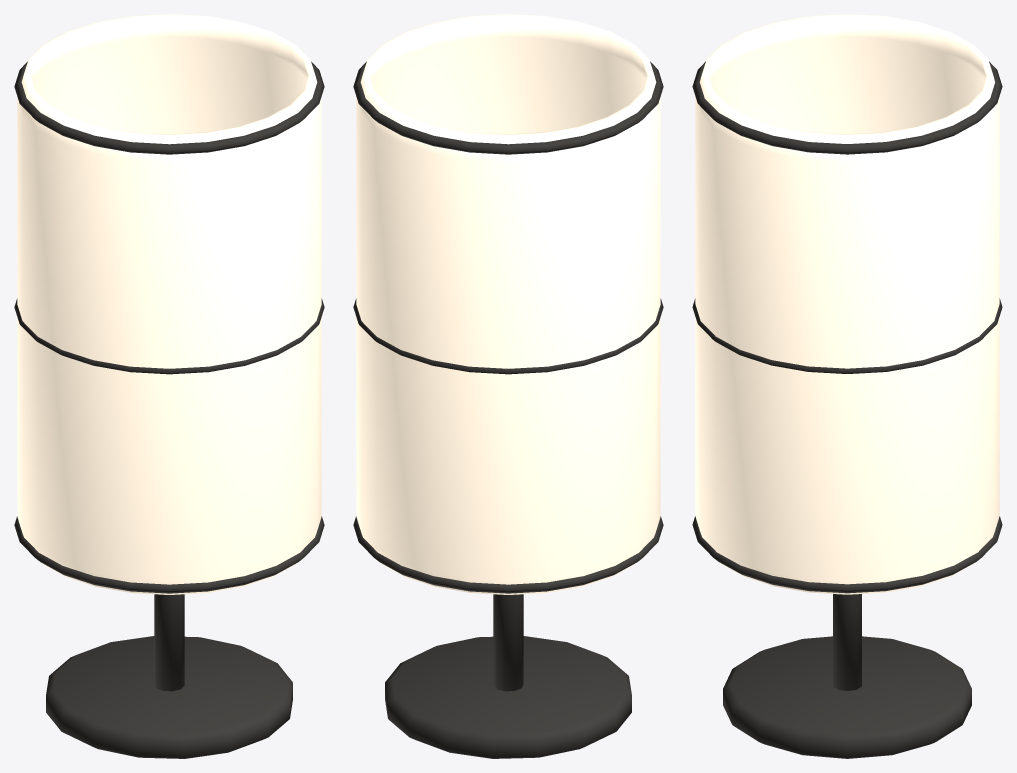
Rendered from paperLamp.glb.
3 views of the same model, side by side, from view 1: azimuth 30°, elevation 25°; view 2: azimuth 150°, elevation 25°; view 3: azimuth 270°, elevation 25° (orthographic).
Parts seen in each view (by area): view 1: paperLamp_paper_shade, paperLamp_base, paperLamp_hoop_2, paperLamp_hoop_0, paperLamp_rod, paperLamp_hoop_1; view 2: paperLamp_paper_shade, paperLamp_base, paperLamp_hoop_2, paperLamp_hoop_0, paperLamp_rod, paperLamp_hoop_1; view 3: paperLamp_paper_shade, paperLamp_base, paperLamp_hoop_2, paperLamp_hoop_0, paperLamp_rod, paperLamp_hoop_1.
Part boxes in pixels (left/top/right/bottom): paperLamp_paper_shade: left=17, top=14, right=321, bottom=594; paperLamp_base: left=46, top=636, right=292, bottom=758; paperLamp_hoop_2: left=14, top=61, right=324, bottom=154; paperLamp_hoop_0: left=14, top=516, right=324, bottom=593; paperLamp_rod: left=154, top=594, right=184, bottom=691; paperLamp_hoop_1: left=14, top=298, right=324, bottom=374; paperLamp_paper_shade: left=356, top=14, right=660, bottom=594; paperLamp_base: left=385, top=636, right=631, bottom=758; paperLamp_hoop_2: left=353, top=61, right=663, bottom=154; paperLamp_hoop_0: left=353, top=516, right=663, bottom=593; paperLamp_rod: left=493, top=594, right=523, bottom=691; paperLamp_hoop_1: left=353, top=298, right=663, bottom=374; paperLamp_paper_shade: left=695, top=14, right=999, bottom=594; paperLamp_base: left=723, top=636, right=971, bottom=758; paperLamp_hoop_2: left=692, top=61, right=1002, bottom=154; paperLamp_hoop_0: left=692, top=516, right=1002, bottom=593; paperLamp_rod: left=833, top=594, right=861, bottom=690; paperLamp_hoop_1: left=692, top=298, right=1002, bottom=373.
Bounding box in the file's own units: 0.51 × 1.15 × 0.51.
